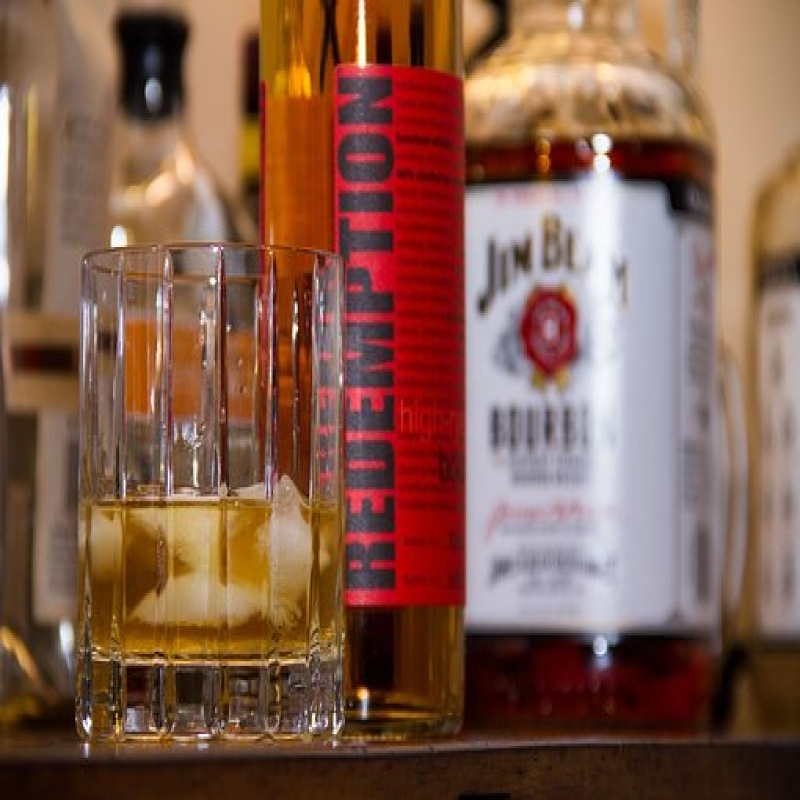whiskey: (78, 250, 342, 736)
